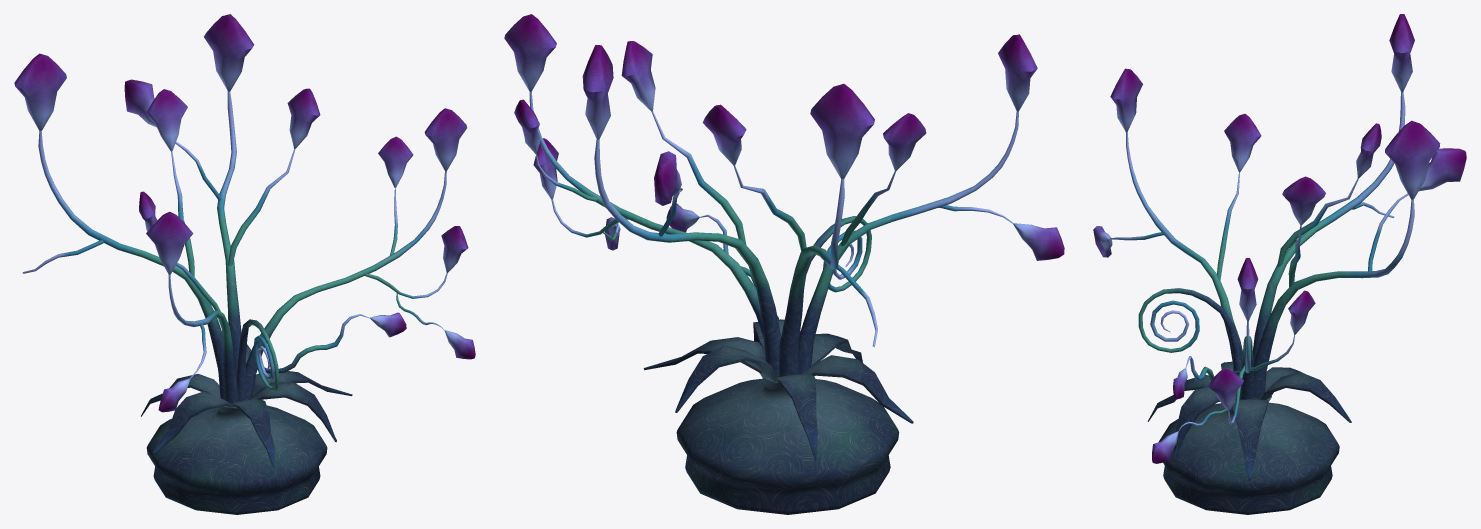
Rendered from plant2.obj.
3 views of the same model, side by side, from view 1: azimuth 30°, elevation 25°; view 2: azimuth 150°, elevation 25°; view 3: azimuth 270°, elevation 25° (orthographic). The views are drawn at different scales.
Parts seen in each view (by area): view 1: wCone; view 2: wCone; view 3: wCone.
Part boxes in pixels (x1,y1,x2,y2): wCone: [14, 14, 475, 514]; wCone: [504, 14, 1064, 514]; wCone: [1093, 14, 1466, 514].
Size of the model in its own units: 2.36 by 2.37 by 1.97.
